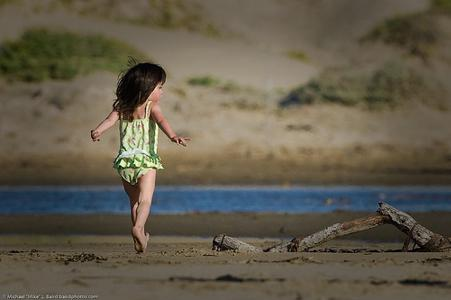person: (91, 63, 190, 254)
